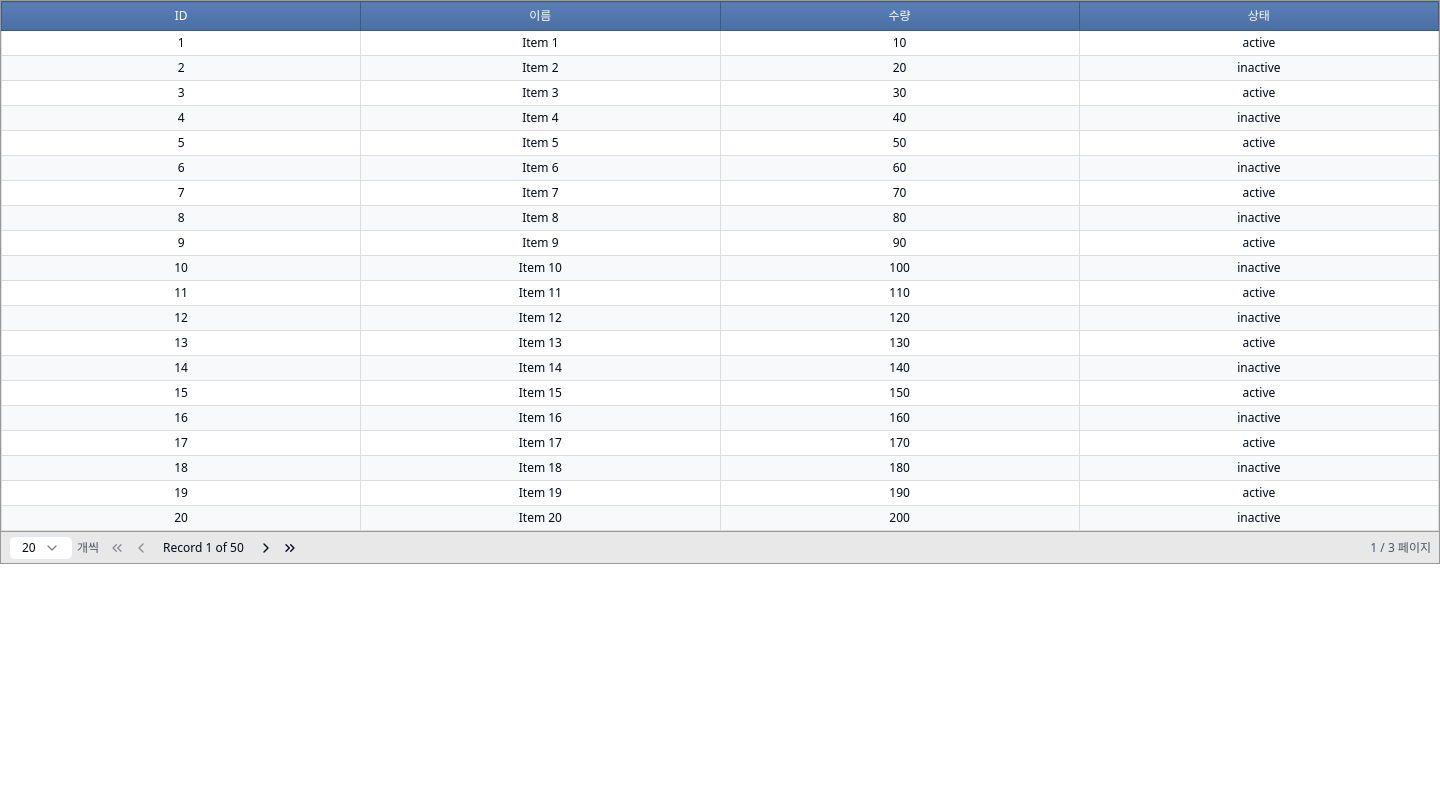
Test case: ERPTable 페이지 사이즈 선택 › 기본 페이지 사이즈 옵션이 있어야 함 (10, 20, 50, 100)
The image size is (1440, 810).
Click the dropdown named "페이지 사이즈": (41,548) [9,536,73,560]
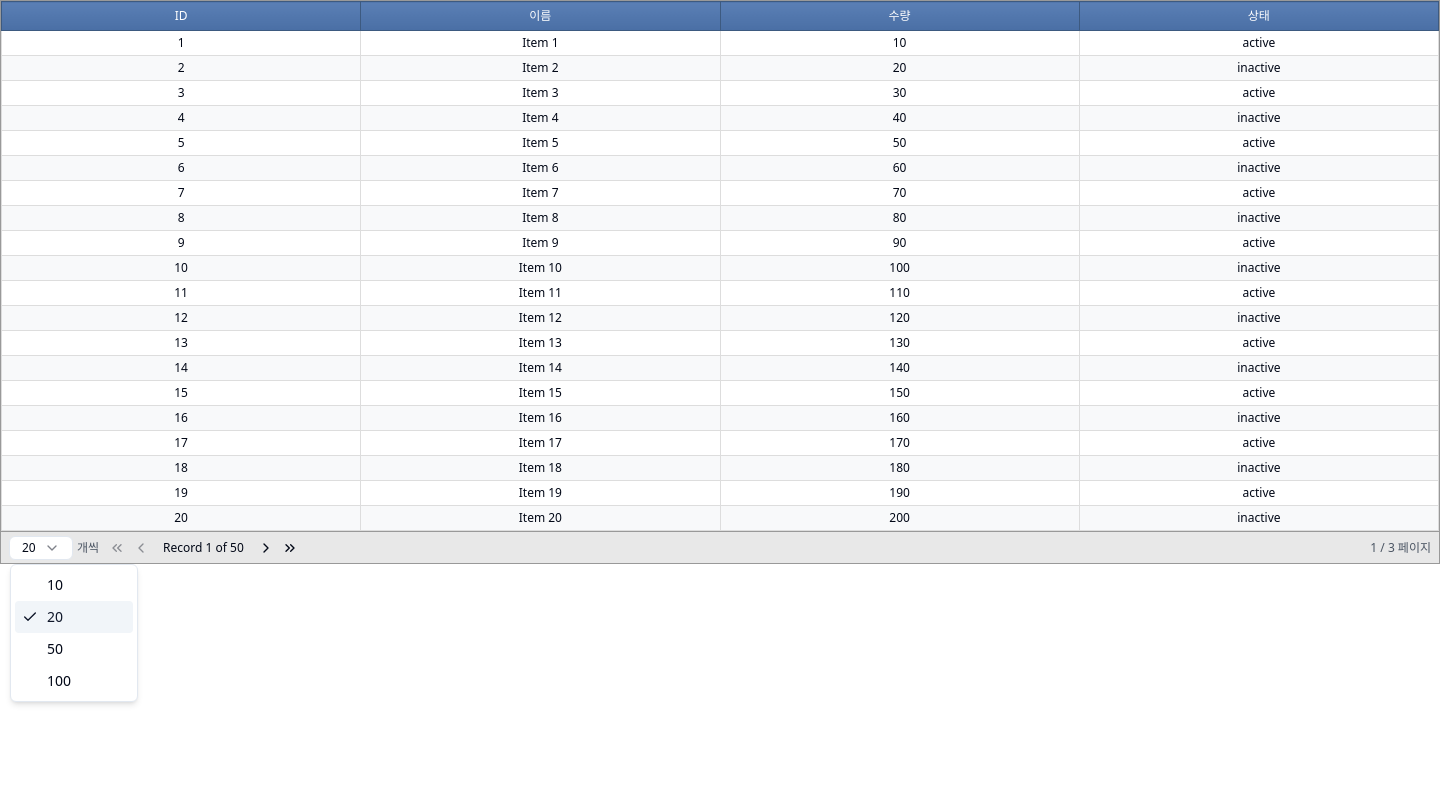
Check: the option "10" is shown, box [47,575,63,594]
Check: the option "20" is shown, box [15,601,133,633]
Check: the option "50" is shown, box [47,639,63,658]
